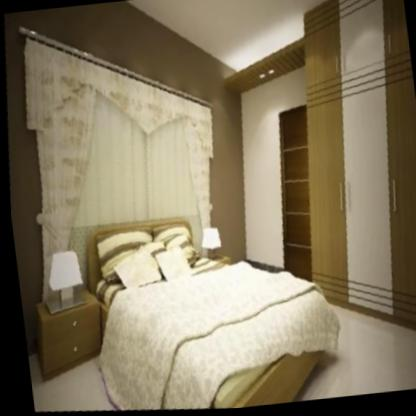Bed: (79, 200, 342, 413)
Lamp: (37, 240, 88, 317)
Nightstand: (23, 296, 108, 387)
